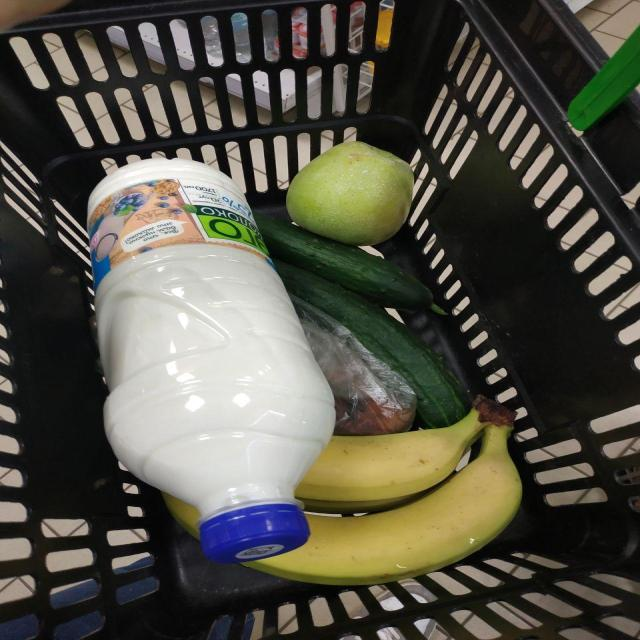Apple: (287, 141, 413, 246)
Banana: (245, 420, 522, 585), (295, 395, 517, 513), (164, 494, 198, 538)
Carrot: (333, 398, 413, 434)
Cucumber: (276, 260, 470, 429), (255, 214, 432, 310)
Milk: (88, 159, 335, 562)
